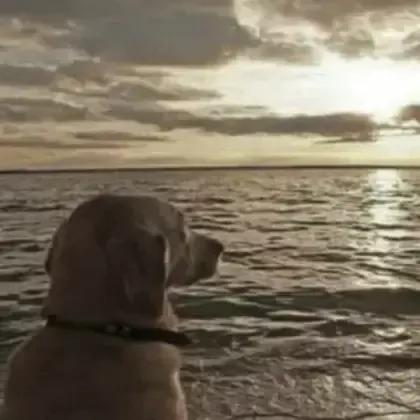adult_dog: (2, 194, 224, 418)
